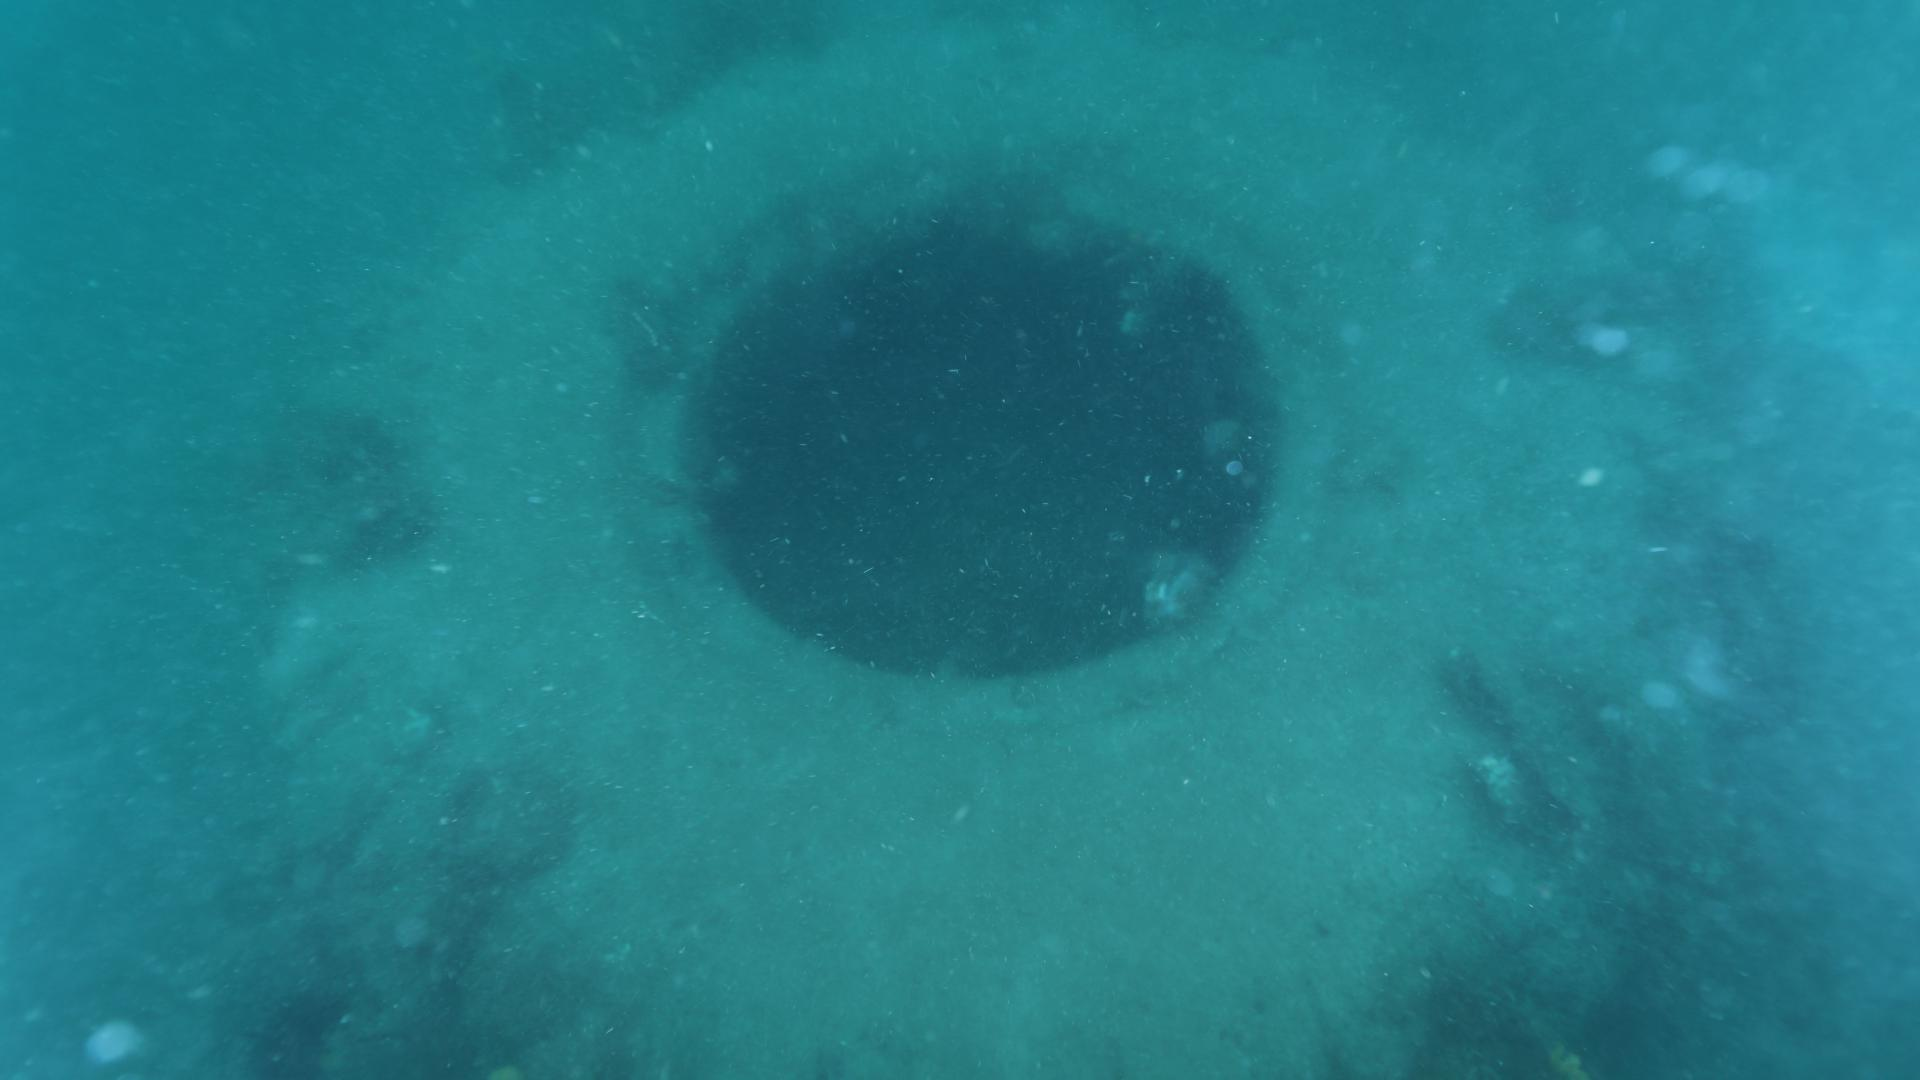tire: (260, 1, 1684, 1080)
